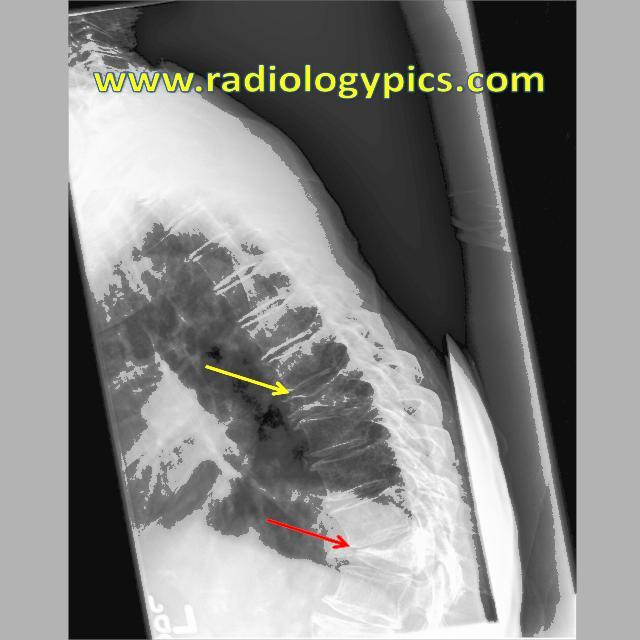Compression-Crush Fracutre: (333, 539, 432, 574), (284, 379, 371, 415)
